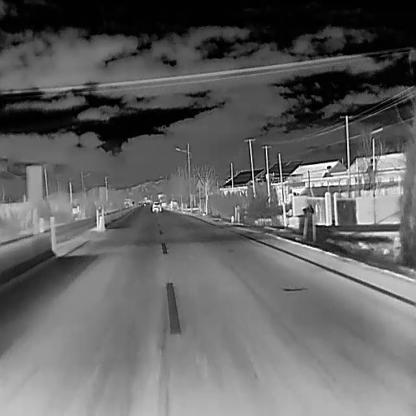car: (151, 200, 162, 212)
